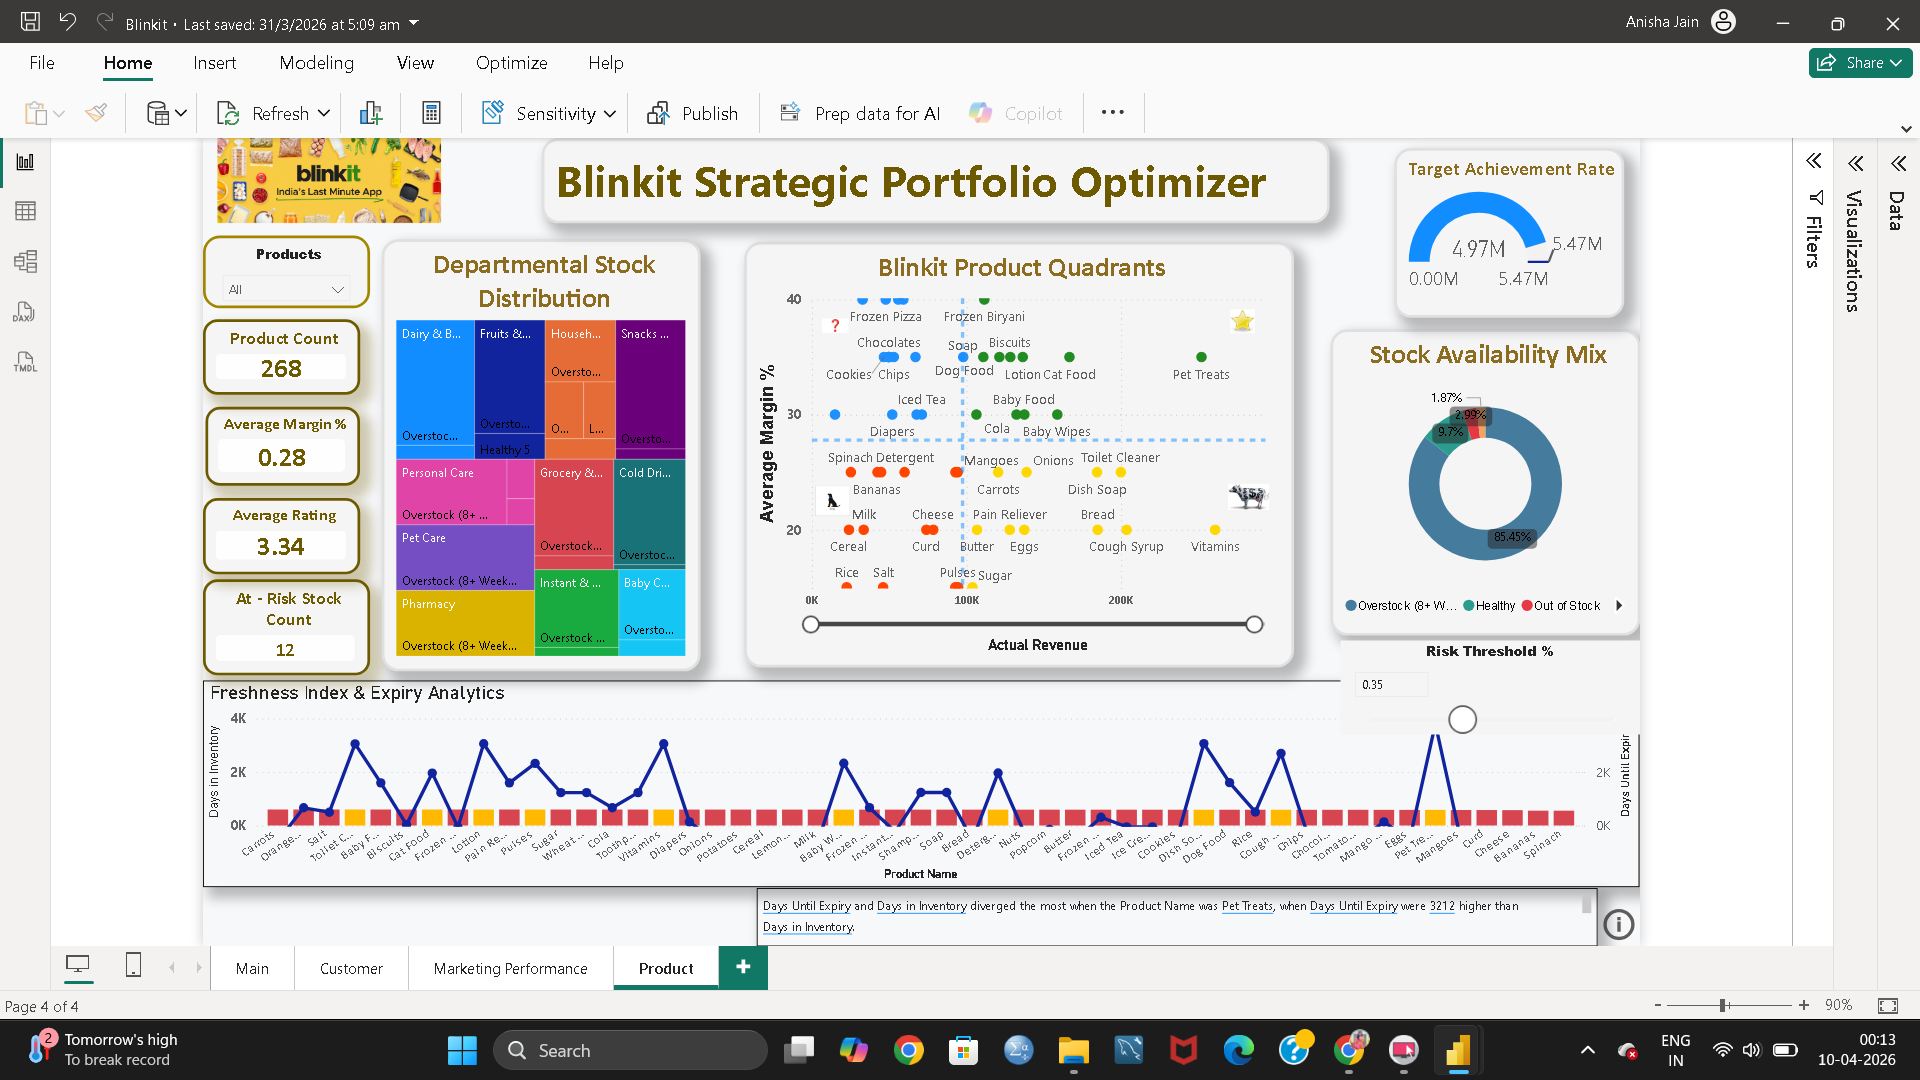

The page's visual inventory and layout, read from the dashboard file:
{"tool":"powerbi","page":{"name":"Product","canvas":[1280,720],"ordinal":3},"visuals":[{"type":"image","title":"Category","box":[0,0,224.4,76],"z":0},{"type":"cardVisual","title":"At - Risk Stock Count","fields":{"Data":["Product Dax.At-Risk Stock Count"]},"box":[0,393,148.9,85.4],"z":6000},{"type":"cardVisual","title":"Average Margin %","fields":{"Data":["Related Product Pairs.Margin Leakage %"]},"box":[2.4,239.2,137.9,70.8],"z":7000},{"type":"cardVisual","title":"Product Count","fields":{"Data":["Product Dax.Product_Count"]},"box":[0,161.1,140.4,67.1],"z":8000},{"type":"cardVisual","title":"Average Rating","fields":{"Data":["Related Product.avg"]},"box":[0,321,140.4,68.3],"z":9000},{"type":"treemap","title":"Departmental Stock Distribution","fields":{"Details":["Product.Stock Status Category"],"Values":["CountNonNull(Product.Product ID)"],"Group":["Product.Category"]},"box":[158.7,90.3,284.4,384.4],"z":10000},{"type":"donutChart","title":"Stock Availability Mix","fields":{"Category":["Product.Stock Status Category"],"Y":["CountNonNull(Product.Product ID)"]},"box":[1003.8,170.1,276.3,272.7],"z":11000},{"type":"gauge","title":"Target Achievement Rate","fields":{"Y":["Related Product.Actual Revenue"],"MaxValue":["Related Product.Total Revenue"],"TargetValue":["Related Product.Target Revenue"]},"box":[1060.9,8.9,204.8,151.4],"z":12000},{"type":"scatterChart","title":"Blinkit Product Quadrants","fields":{"X":["Related Product.Actual Revenue"],"Y":["Product Dax.Average Margin %"],"Category":["Product.Product Name"]},"box":[482.1,92.8,489.4,379.6],"z":13000},{"type":"lineClusteredColumnComboChart","title":"Freshness Index & Expiry Analytics","fields":{"Y":["Related Product.Days in Inventory"],"Y2":["Related Product.Days Until Expiry"],"Category":["Product.Product Name"]},"box":[0,483.1,1279.5,184.3],"z":14000},{"type":"slicer","title":"Risk Threshold %","fields":{"Values":["Risk Threshold %.Risk Threshold %"]},"box":[1012.7,447.9,267.3,83],"z":15000},{"type":"slicer","title":"Products","fields":{"Values":["Related Product.Product Name"]},"box":[0,86.7,148.9,64.7],"z":16000},{"type":"image","box":[551.3,150.8,24.1,33.8],"z":17000},{"type":"image","box":[544.3,310,33,26.8],"z":18000},{"type":"image","box":[912.9,307.6,36.6,24.4],"z":19000},{"type":"image","box":[906,152,39.8,21.7],"z":20000},{"type":"textbox","box":[301.5,0,701.8,75.7],"z":21000},{"type":"actionButton","box":[1242.6,680.4,37.4,39.8],"z":22000},{"type":"textbox","box":[493.1,667.9,749.2,52.3],"z":23000}]}

Visuals, with their boxes on the page's 1280x720 design canvas (x1, y1, x2, y2). These are canvas units, not pixel positions in the 1920x1080 screenshot, which may show the page scaled, cropped or inside an application window:
"Category" image: x1=0, y1=0, x2=224, y2=76
"At - Risk Stock Count" cardVisual: x1=0, y1=393, x2=149, y2=478
"Average Margin %" cardVisual: x1=2, y1=239, x2=140, y2=310
"Product Count" cardVisual: x1=0, y1=161, x2=140, y2=228
"Average Rating" cardVisual: x1=0, y1=321, x2=140, y2=389
"Departmental Stock Distribution" treemap: x1=159, y1=90, x2=443, y2=475
"Stock Availability Mix" donutChart: x1=1004, y1=170, x2=1280, y2=443
"Target Achievement Rate" gauge: x1=1061, y1=9, x2=1266, y2=160
"Blinkit Product Quadrants" scatterChart: x1=482, y1=93, x2=972, y2=472
"Freshness Index & Expiry Analytics" lineClusteredColumnComboChart: x1=0, y1=483, x2=1280, y2=667
"Risk Threshold %" slicer: x1=1013, y1=448, x2=1280, y2=531
"Products" slicer: x1=0, y1=87, x2=149, y2=151
image: x1=551, y1=151, x2=575, y2=185
image: x1=544, y1=310, x2=577, y2=337
image: x1=913, y1=308, x2=950, y2=332
image: x1=906, y1=152, x2=946, y2=174
textbox: x1=302, y1=0, x2=1003, y2=76
actionButton: x1=1243, y1=680, x2=1280, y2=720
textbox: x1=493, y1=668, x2=1242, y2=720
